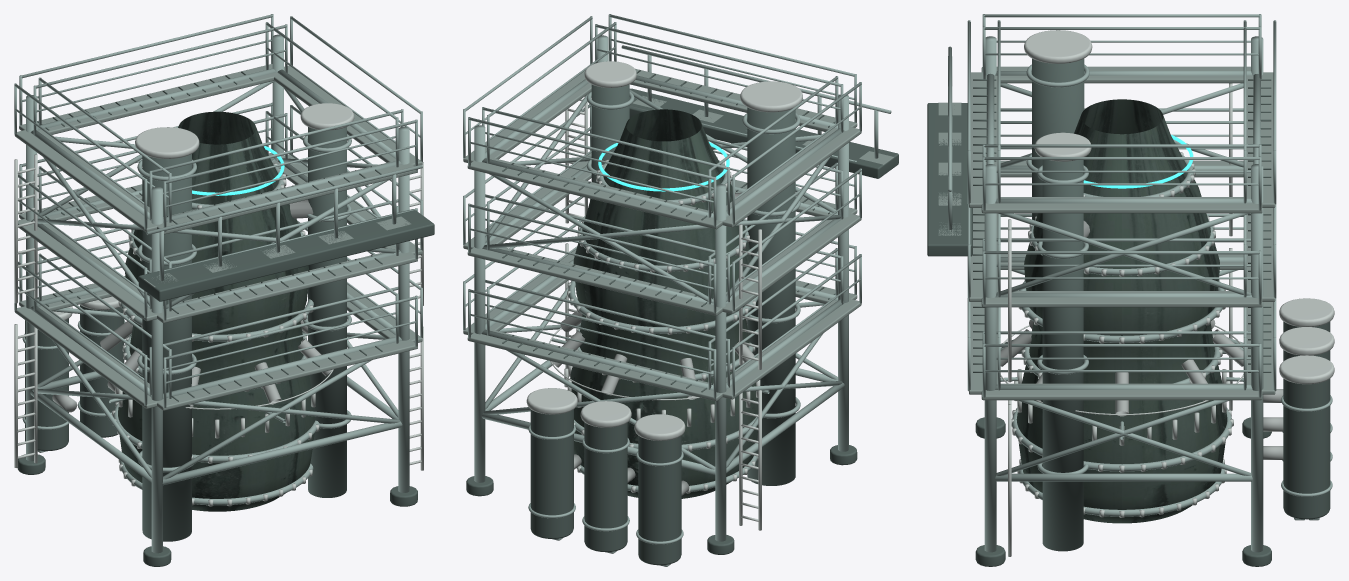
File: k-furnace-authored.glb
The picture shows the model from 3 angles, left to right: view 1: azimuth 30°, elevation 25°; view 2: azimuth 150°, elevation 25°; view 3: azimuth 270°, elevation 25°; orthographic projection. The views are drawn at different scales.
Parts seen in each view (by area): view 1: Furnace — K/02 — zinc plated structural steel, Furnace — K/03 — dark industrial machine paint, Furnace — K/01 — weathered graphite steel, Furnace — K/05 — service decking, Furnace — K/04 — bright machined fittings, Furnace — K/07 — refractory heatshield; view 2: Furnace — K/02 — zinc plated structural steel, Furnace — K/03 — dark industrial machine paint, Furnace — K/01 — weathered graphite steel, Furnace — K/05 — service decking, Furnace — K/04 — bright machined fittings, Furnace — K/07 — refractory heatshield, Furnace — K/06 — cyber immunity internal mint; view 3: Furnace — K/02 — zinc plated structural steel, Furnace — K/01 — weathered graphite steel, Furnace — K/03 — dark industrial machine paint, Furnace — K/05 — service decking, Furnace — K/04 — bright machined fittings, Furnace — K/07 — refractory heatshield, Furnace — K/06 — cyber immunity internal mint.
Part boxes in pixels (bbox=[...]): Furnace — K/02 — zinc plated structural steel: bbox=[14, 14, 422, 553]; Furnace — K/03 — dark industrial machine paint: bbox=[17, 71, 434, 566]; Furnace — K/01 — weathered graphite steel: bbox=[118, 111, 315, 511]; Furnace — K/05 — service decking: bbox=[14, 64, 422, 410]; Furnace — K/04 — bright machined fittings: bbox=[14, 103, 423, 506]; Furnace — K/07 — refractory heatshield: bbox=[52, 199, 332, 412]; Furnace — K/02 — zinc plated structural steel: bbox=[463, 14, 891, 566]; Furnace — K/03 — dark industrial machine paint: bbox=[466, 70, 898, 565]; Furnace — K/01 — weathered graphite steel: bbox=[570, 109, 758, 498]; Furnace — K/05 — service decking: bbox=[463, 68, 893, 401]; Furnace — K/04 — bright machined fittings: bbox=[526, 61, 802, 530]; Furnace — K/07 — refractory heatshield: bbox=[551, 192, 754, 495]; Furnace — K/06 — cyber immunity internal mint: bbox=[598, 142, 729, 191]; Furnace — K/02 — zinc plated structural steel: bbox=[948, 14, 1332, 552]; Furnace — K/01 — weathered graphite steel: bbox=[1016, 99, 1227, 523]; Furnace — K/03 — dark industrial machine paint: bbox=[927, 58, 1330, 566]; Furnace — K/05 — service decking: bbox=[938, 66, 1275, 400]; Furnace — K/04 — bright machined fittings: bbox=[1000, 30, 1334, 556]; Furnace — K/07 — refractory heatshield: bbox=[1000, 221, 1283, 459]; Furnace — K/06 — cyber immunity internal mint: bbox=[1083, 134, 1193, 188].
Bounding box in the file's own units: 5.25 × 6.44 × 5.73.
7 materials, 1 textured.
